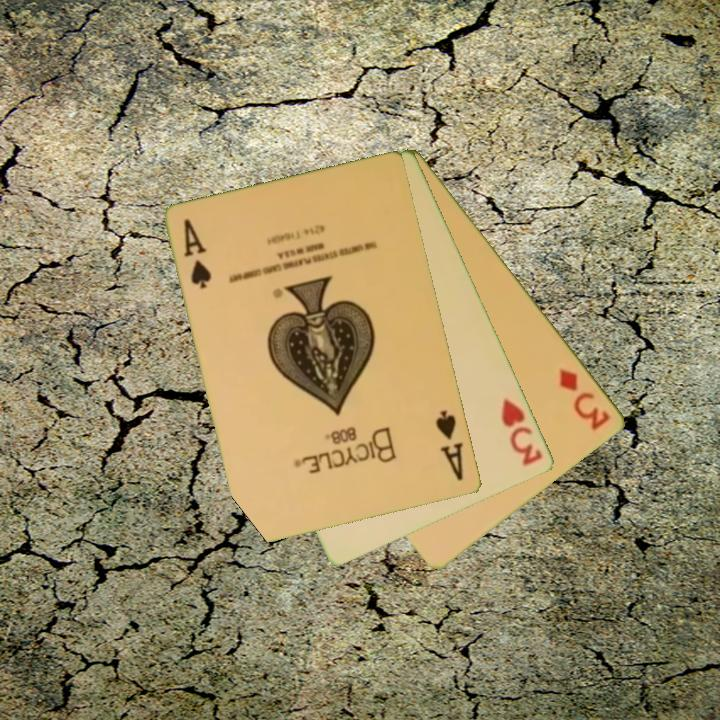3d: (556, 365, 614, 434)
3h: (498, 394, 546, 469)
As: (432, 407, 468, 484), (180, 215, 215, 293)
